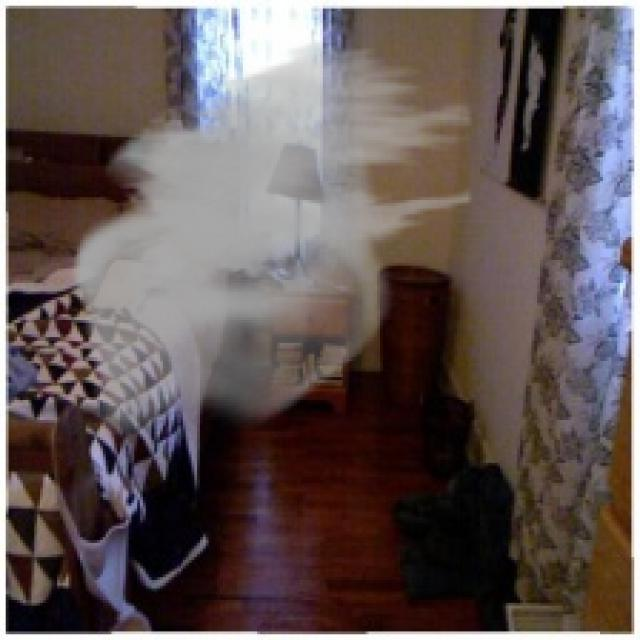smoke: (72, 37, 474, 437)
